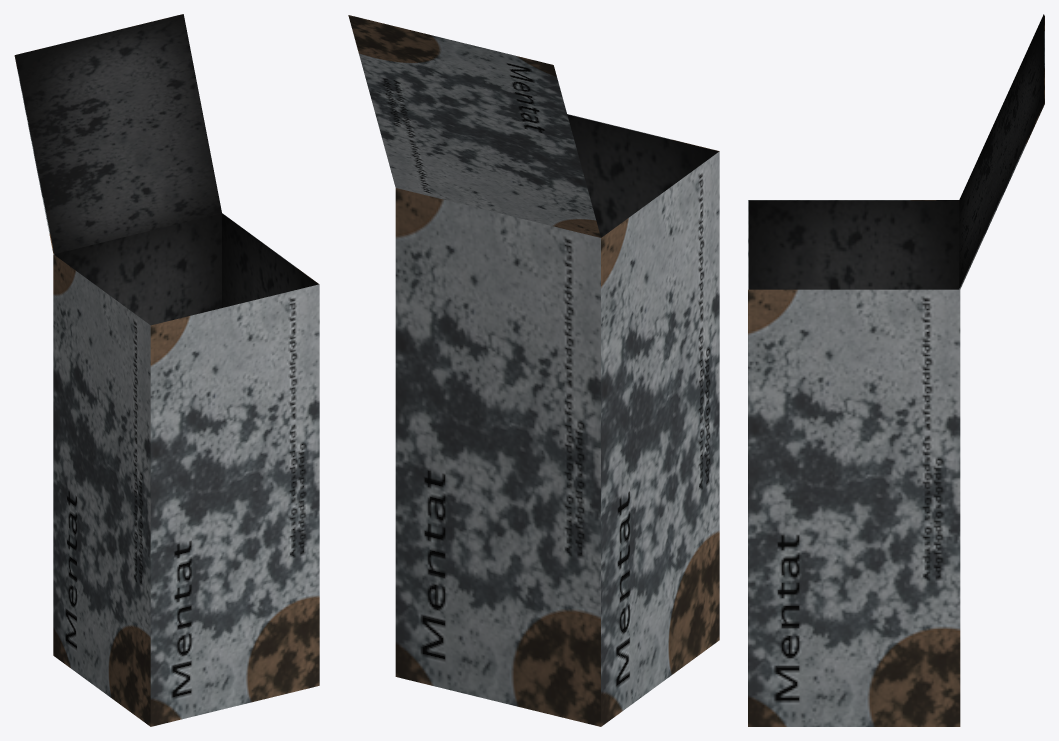
Rendered from medicine_box_G.fbx.
3 renders of one model, left to right at view 1: azimuth 30°, elevation 25°; view 2: azimuth 150°, elevation 25°; view 3: azimuth 270°, elevation 25°, orthographic. The views are drawn at different scales.
Parts seen in each view (by area): view 1: medicine_box_G; view 2: medicine_box_G; view 3: medicine_box_G.
Part boxes in pixels (bbox=[...]): medicine_box_G: bbox=[14, 14, 319, 726]; medicine_box_G: bbox=[348, 15, 719, 726]; medicine_box_G: bbox=[748, 14, 1044, 726].
Size of the model in its own units: 7.28 by 23.58 by 10.18.
